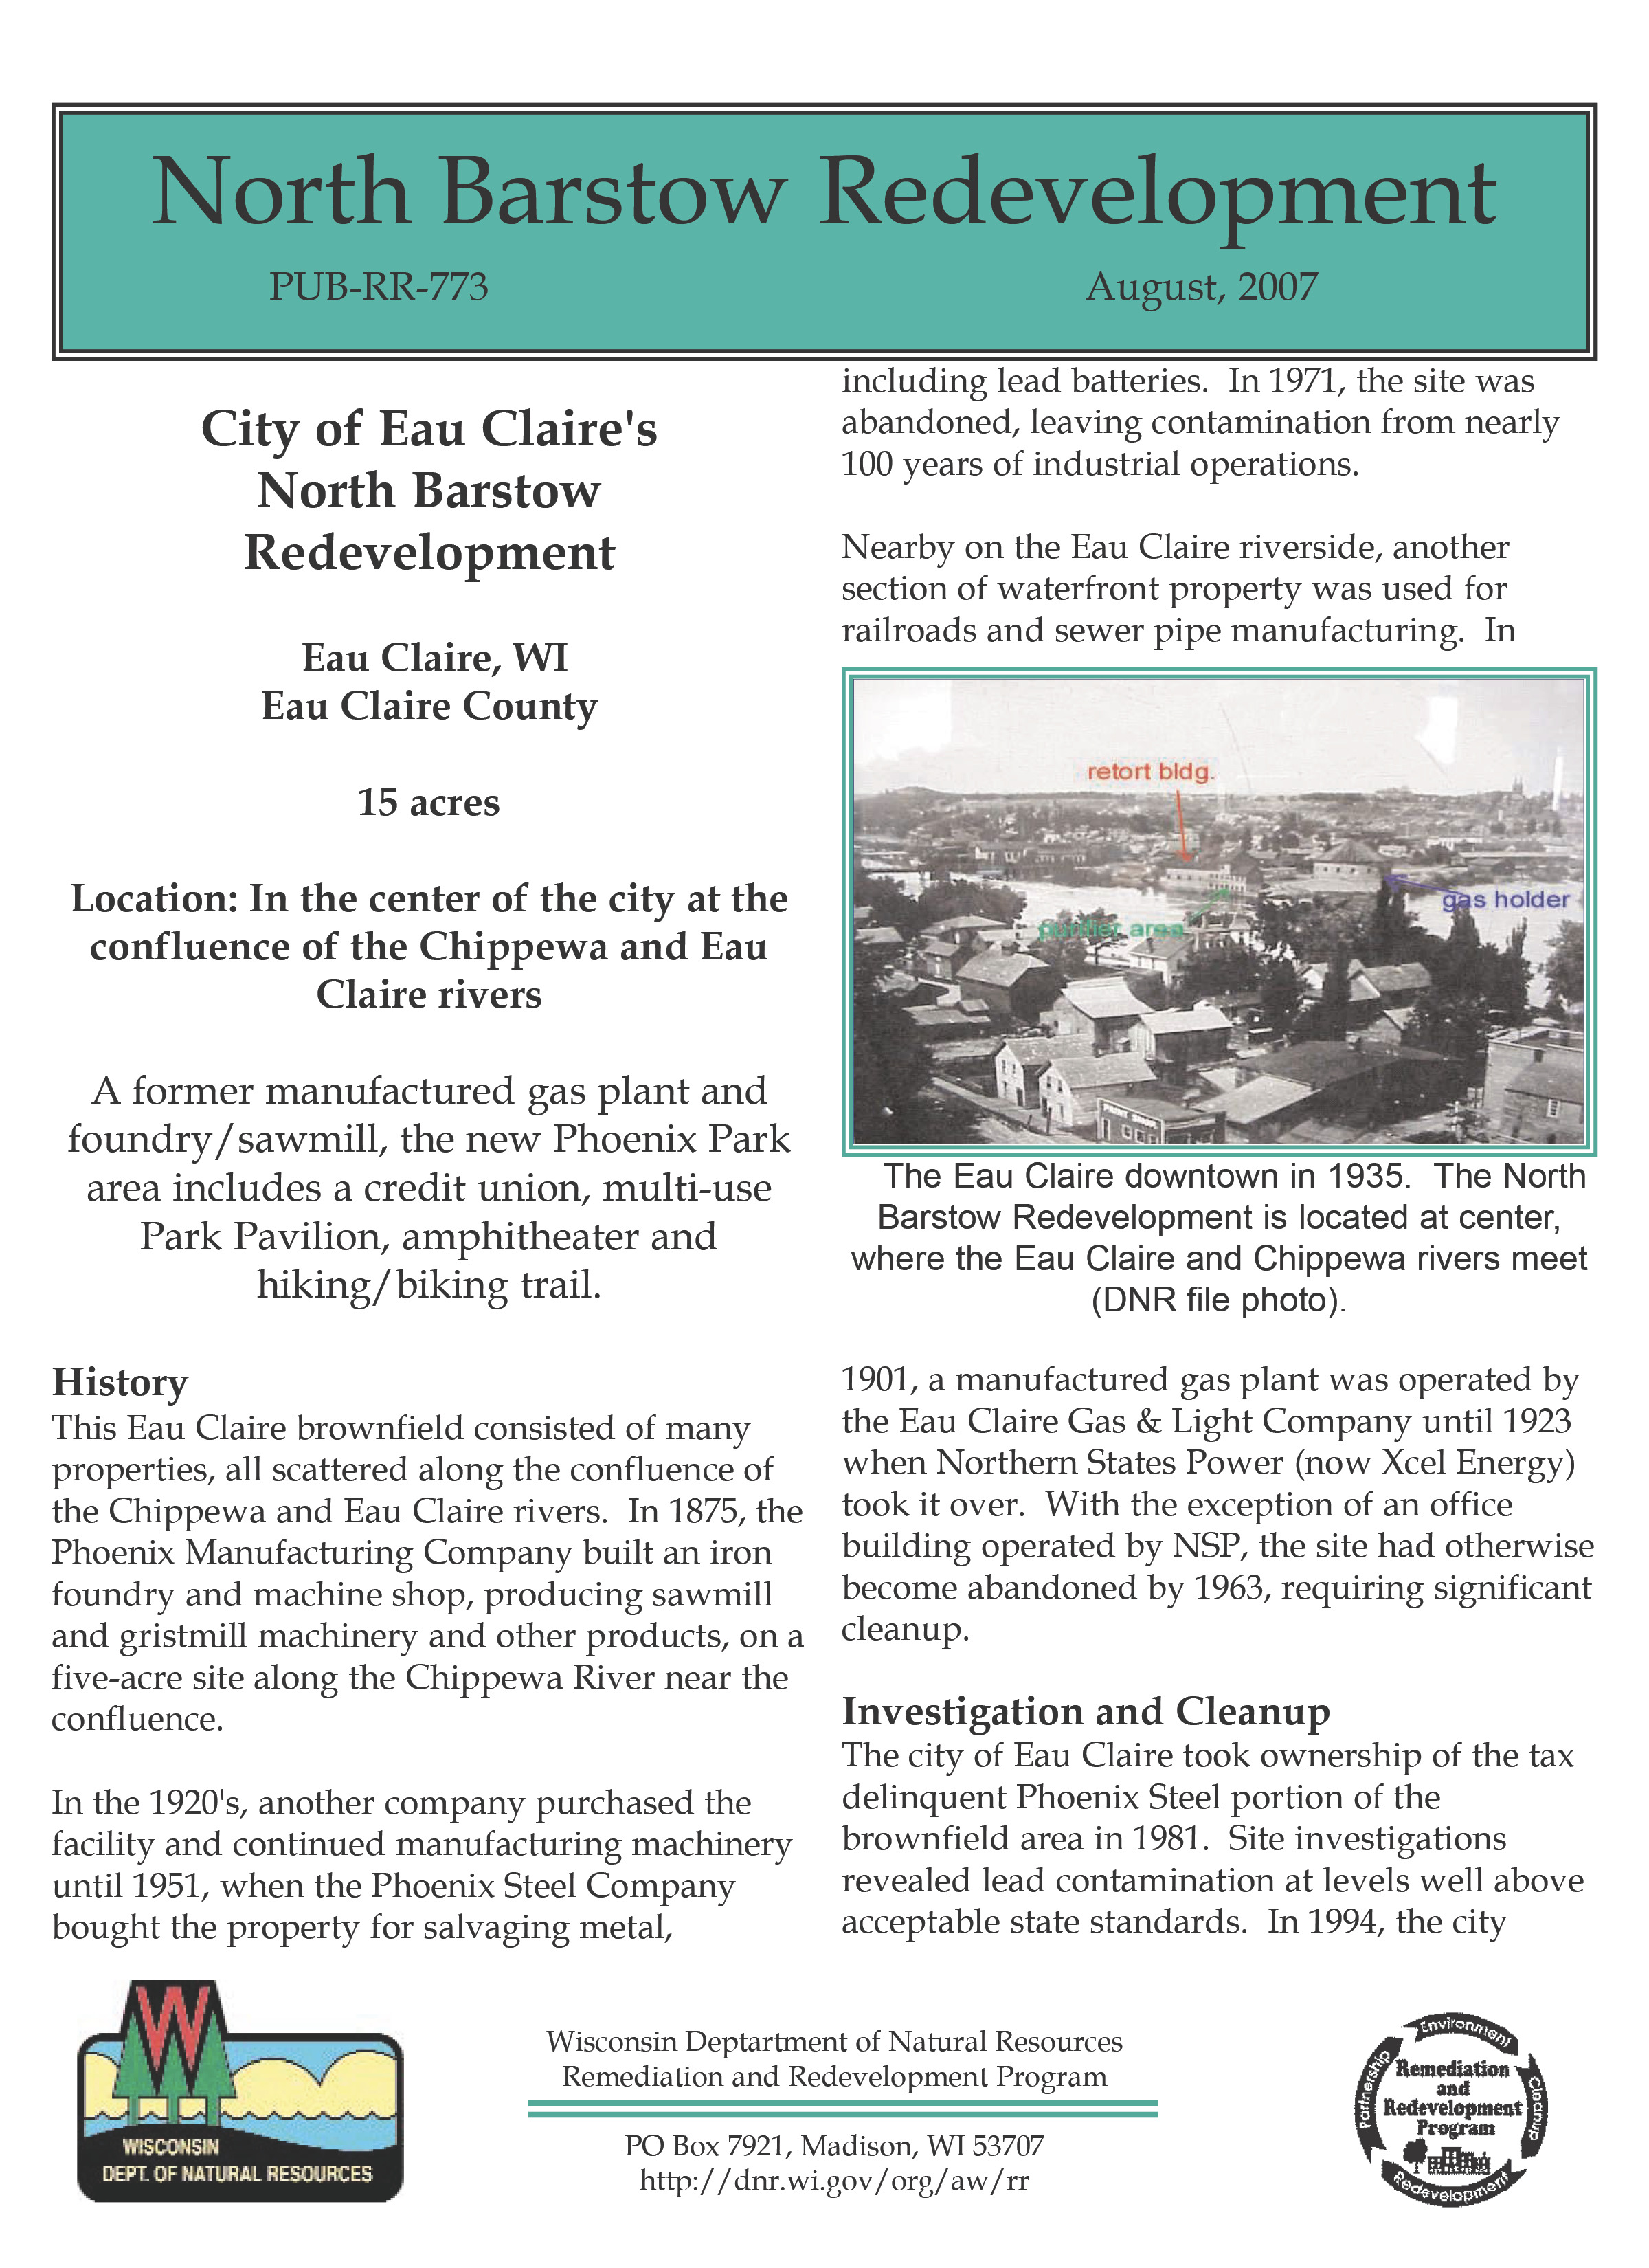caption: (855, 1162, 1591, 1319)
figure: (843, 676, 1591, 1155), (63, 1976, 417, 2208), (1366, 2011, 1545, 2198)
section: (160, 153, 1501, 236), (76, 882, 780, 1023), (201, 400, 656, 579), (280, 636, 609, 740), (843, 1678, 1341, 1738), (1089, 273, 1322, 317), (269, 266, 489, 303), (357, 784, 507, 833), (56, 1366, 201, 1409), (53, 1366, 190, 1402)
text: (53, 1423, 806, 1729), (839, 1356, 1609, 1638), (83, 1072, 780, 1315), (846, 1752, 1582, 1951), (53, 1775, 787, 1955), (542, 2032, 1126, 2201), (846, 523, 1522, 659), (843, 370, 1552, 486)
